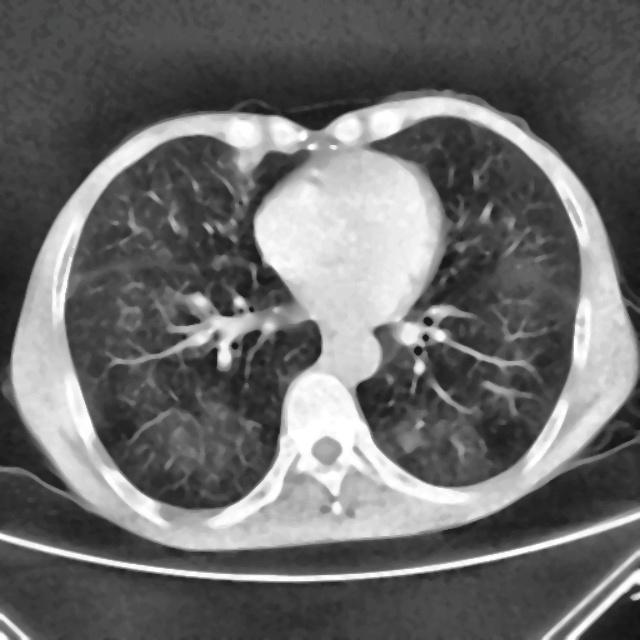covid: (6, 88, 638, 553)
